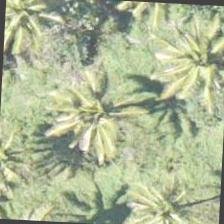Kelapa_Sawit: (30, 84, 125, 178), (162, 17, 223, 112), (117, 162, 212, 223), (3, 0, 71, 59)
